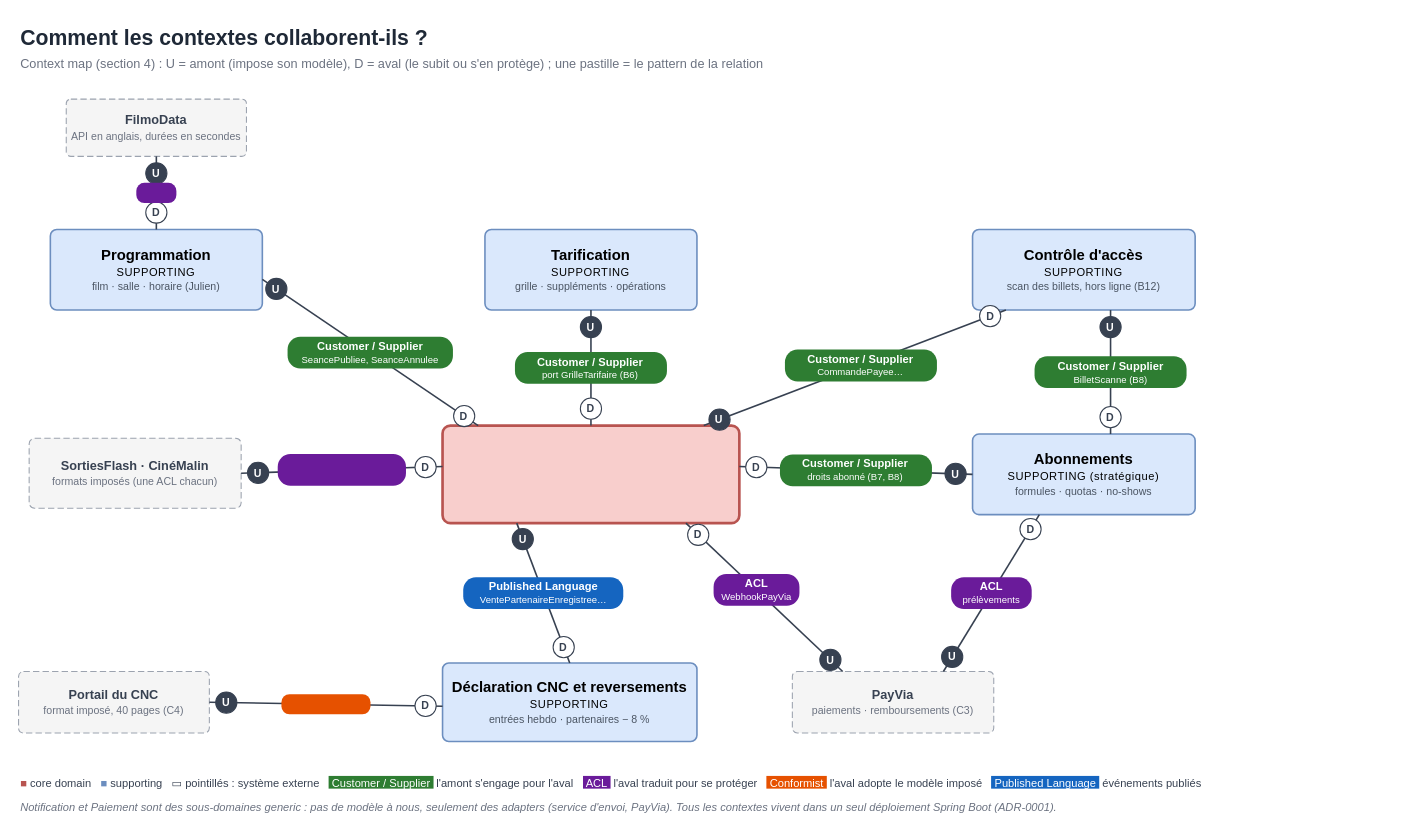
Some shapes in this 1415 by 835 pixel diagram are drawn without their labels. Each missing label, with the centre of its shape:
ACL: point 156,192
ACL AclSortiesFlash (B11): point 341,469
Conformist: point 325,704
Vente de places CORE DOMAIN plan de salle · blocage · commande · paiement: point 590,474
